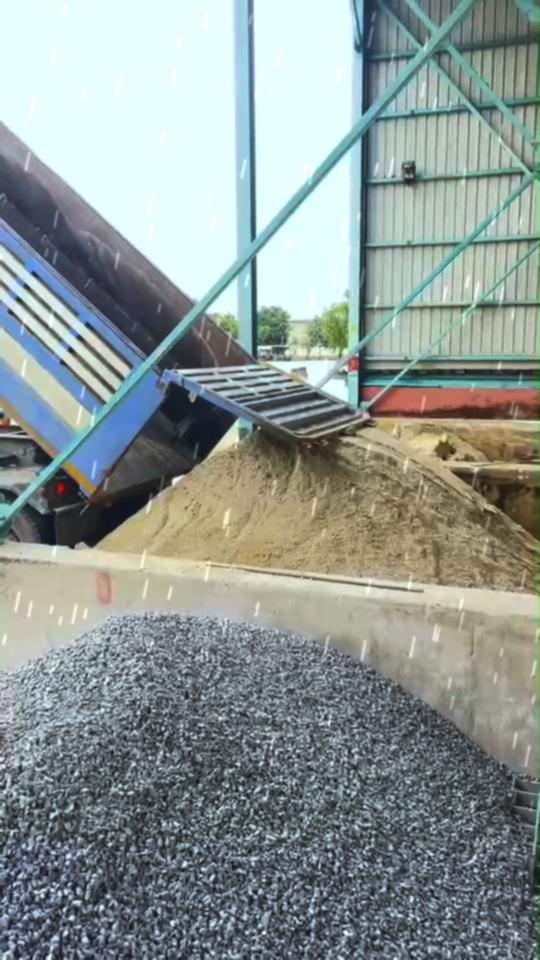gravel: (0, 614, 536, 959)
sand: (100, 430, 537, 591), (385, 423, 485, 461)
